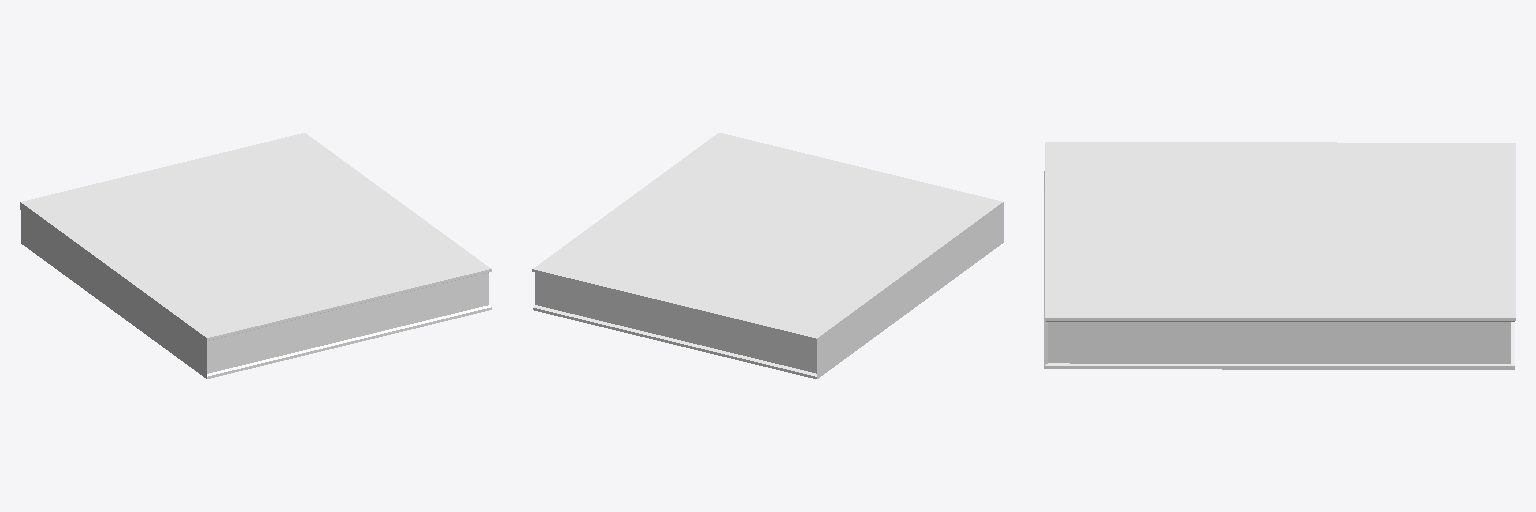
The robot description file, URDF, robot "ball":
<?xml version="1.0" encoding="utf-8"?>
<robot name="ball">
  <link name="base_link">
    <contact>
      <lateral_friction value="0.5"/>
      <rolling_friction value="0.0"/>
      <contact_cfm value="0.0"/>
      <contact_erp value="1.0"/>
    </contact>
    <inertial>
      <origin rpy="0 0 0" xyz="0 0 0"/>
      <mass value="2"/>
      <inertia ixx="0" ixy="0" ixz="0" iyy="0" iyz="0" izz="0"/>
    </inertial>
    <visual>
      <origin rpy="1.57 0 0" xyz="0 0 0"/>
      <geometry>
        <mesh filename="models/meshes/book/1984_book.obj" scale="0.12 0.12 0.12"/>
      </geometry>
      <material name="tray_material">
        <color rgba="1 1 1 1"/>
      </material>
    </visual>
    <collision>
      <origin rpy="1.57 0 0" xyz="0 0 0"/>
      <geometry>
        <mesh filename="models/meshes/book/1984_book.obj" scale="0.12 0.12 0.12"/>
      </geometry>
    </collision>
  </link>
</robot>

--- What the picture shows (computed from the rendered views, not written in the file) ---
The picture shows the robot from 3 angles, left to right: view 1: azimuth 30°, elevation 25°; view 2: azimuth 150°, elevation 25°; view 3: azimuth 270°, elevation 25°; orthographic projection.
Robot: ball — 1 links, 0 joints (none); root link base_link; default pose: all joints at 0.
Visible links, largest first — view 1: base_link; view 2: base_link; view 3: base_link.
Link boxes in pixels (<box>): base_link: <box>20,133,491,378</box>; base_link: <box>532,133,1003,378</box>; base_link: <box>1044,142,1515,369</box>.
Bounding box of the posed robot: 0.215 × 0.2442 × 0.0298 m (x, y, z).
Meshes: 1 distinct files referenced, 1 mesh visuals loaded (1 OBJ).